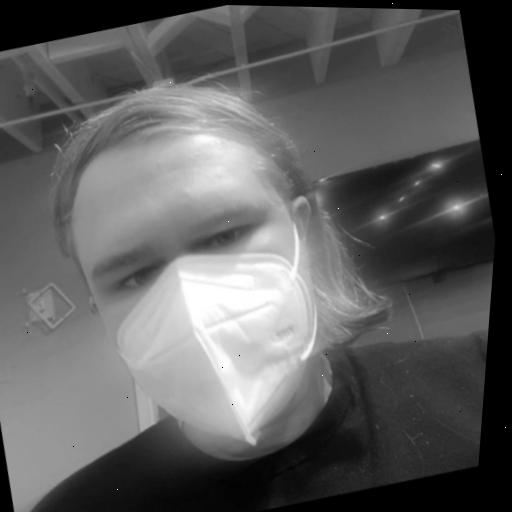mask: (6, 30, 429, 506)
